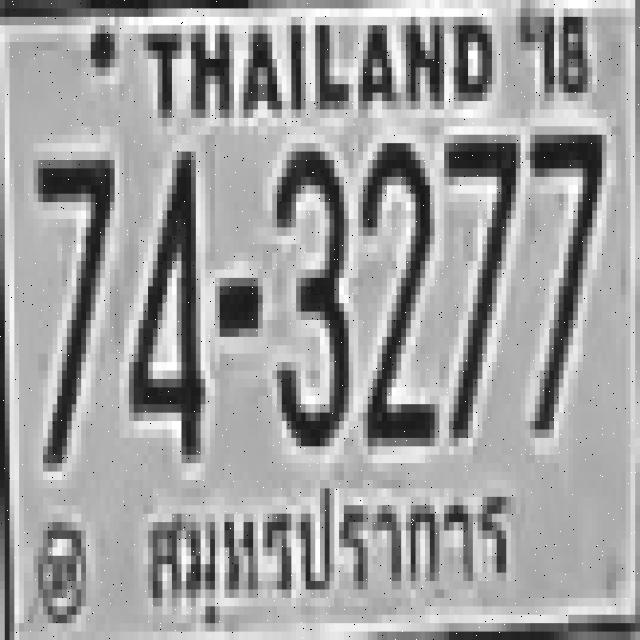2: (358, 135, 430, 438)
3: (272, 148, 344, 442)
4: (124, 143, 200, 455)
7: (34, 152, 110, 464), (442, 130, 514, 434), (528, 126, 600, 430)
SamutPrakan: (138, 480, 516, 612)
